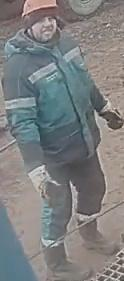gloves: (25, 163, 68, 202), (98, 99, 124, 131)
helmet: (21, 0, 59, 18)
vest: (3, 34, 102, 164)
